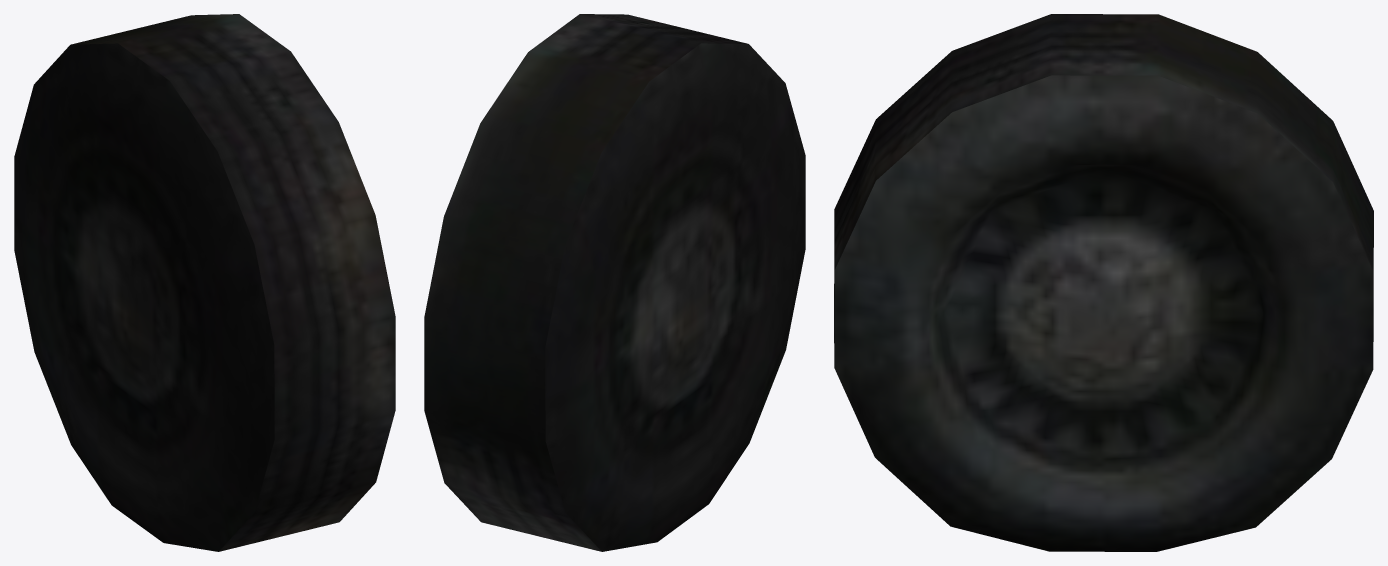
Rendered from taxi2Tire.obj.
The picture shows the model from 3 angles, left to right: view 1: azimuth 30°, elevation 25°; view 2: azimuth 150°, elevation 25°; view 3: azimuth 270°, elevation 25°; orthographic projection. The views are drawn at different scales.
Parts seen in each view (by area): view 1: Object_car_glass.jpg; view 2: Object_car_glass.jpg; view 3: Object_car_glass.jpg.
Boxes of the visible parts, x1=… form: Object_car_glass.jpg: x1=14, y1=14, x2=395, y2=551; Object_car_glass.jpg: x1=424, y1=14, x2=805, y2=551; Object_car_glass.jpg: x1=834, y1=14, x2=1373, y2=551.
Bounding box in the file's own units: 0.4376 × 1.22 × 1.26.
1 material, 1 textured.
